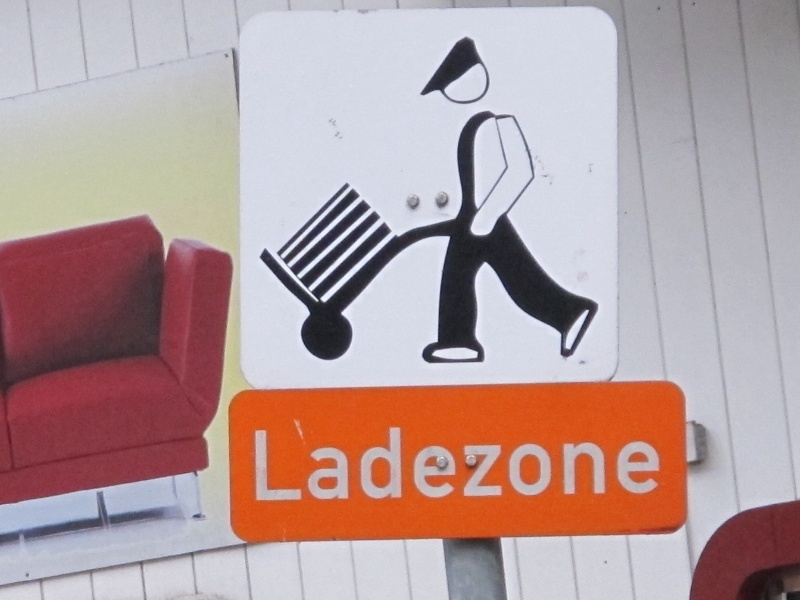text: (257, 426, 272, 504), (273, 426, 288, 504), (289, 426, 304, 504), (305, 426, 320, 504), (321, 426, 336, 504), (337, 426, 352, 504), (353, 426, 368, 504), (369, 426, 384, 504), (385, 426, 400, 504), (401, 426, 416, 504), (417, 426, 432, 504), (433, 426, 448, 504), (449, 426, 464, 504), (465, 426, 480, 504), (481, 426, 496, 504), (497, 426, 512, 504), (513, 426, 528, 504), (529, 426, 544, 504), (545, 426, 560, 504), (561, 426, 576, 504), (577, 426, 592, 504), (593, 426, 608, 504), (609, 426, 624, 504), (625, 426, 640, 504), (641, 426, 656, 504), (657, 426, 662, 504), (254, 426, 256, 504)
